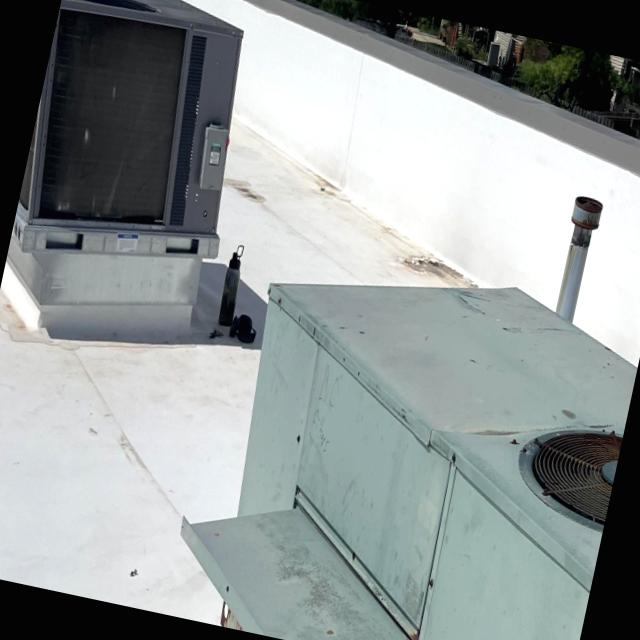RTU: (155, 222, 640, 640), (0, 0, 281, 338)
